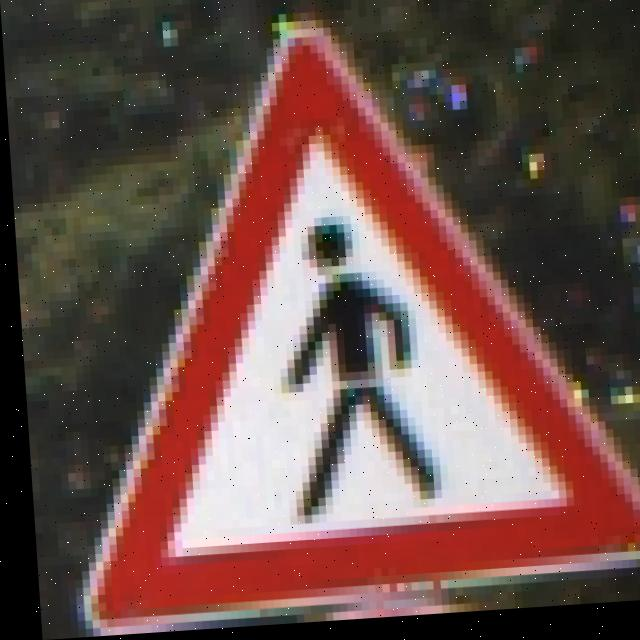crosswalk: (99, 6, 640, 584)
